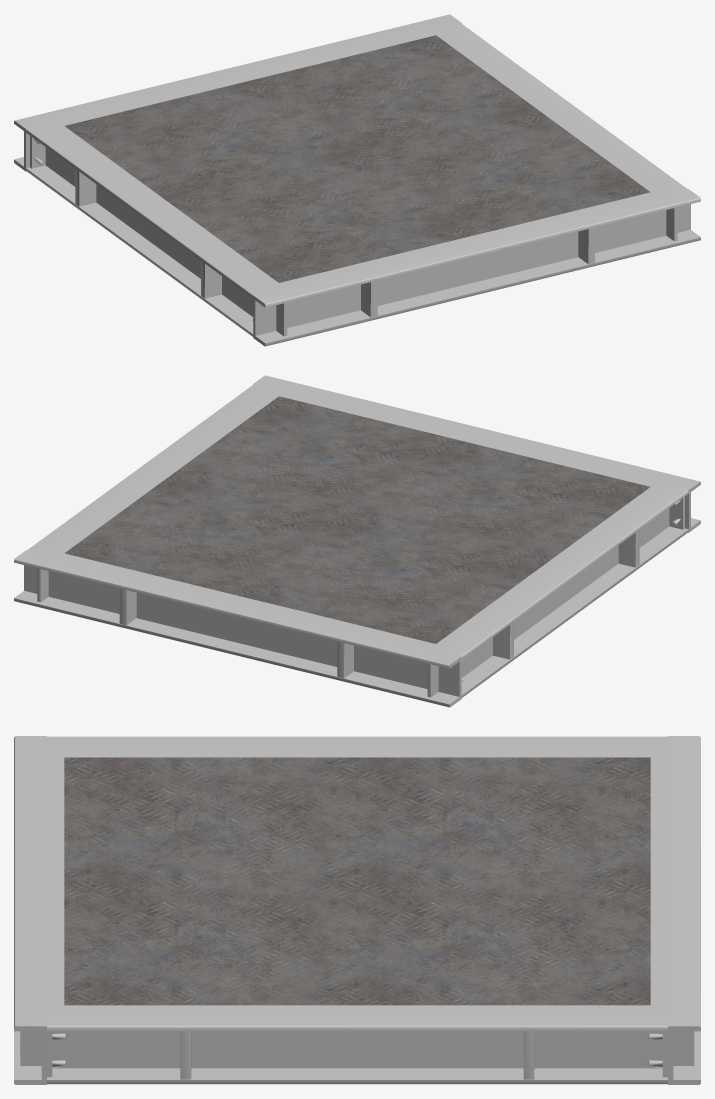
The model's file is SM_Platform_Small_01.fbx.
3 renders of one model, top to bottom at view 1: azimuth 30°, elevation 25°; view 2: azimuth 150°, elevation 25°; view 3: azimuth 270°, elevation 25°, orthographic. The views are drawn at different scales.
Visible parts, largest first — view 1: SM_Platform_Small_01_LOD0; view 2: SM_Platform_Small_01_LOD0; view 3: SM_Platform_Small_01_LOD0.
Part boxes in pixels (x1,y1,x2,y2): SM_Platform_Small_01_LOD0: (14,14,700,346); SM_Platform_Small_01_LOD0: (14,375,700,707); SM_Platform_Small_01_LOD0: (14,736,700,1084).
Bounding box in the file's own units: 256 × 256 × 24.
